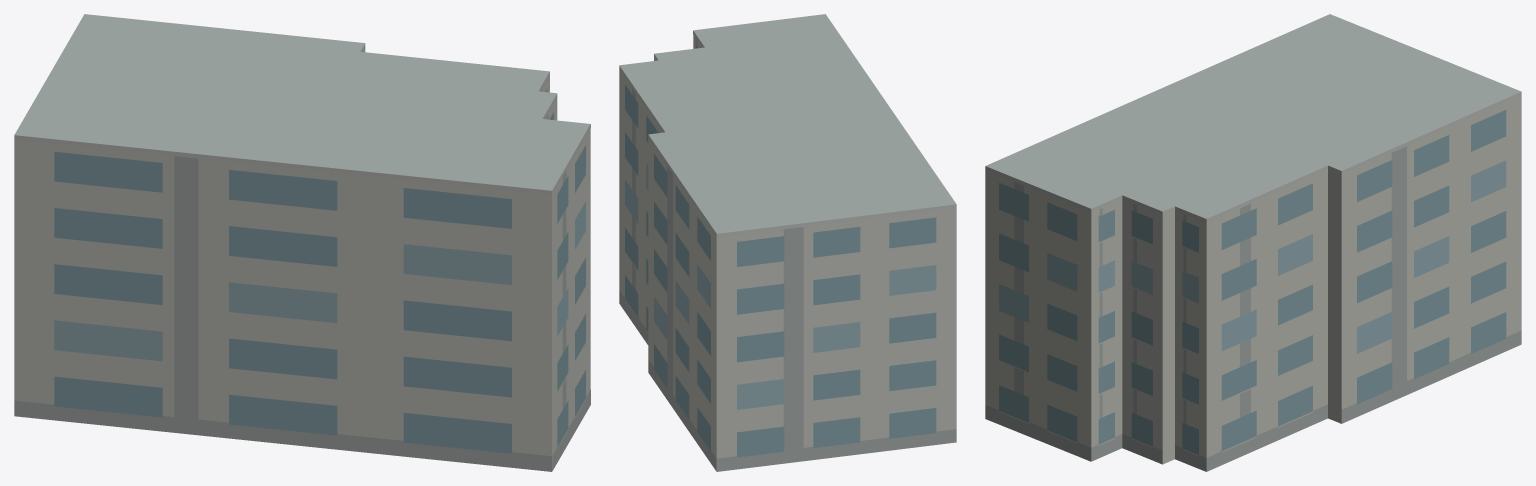
File: residential-81632d91-cecf-4811-9291-0ef5631561b8.glb
The picture shows the model from 3 angles, left to right: view 1: azimuth 30°, elevation 25°; view 2: azimuth 150°, elevation 25°; view 3: azimuth 270°, elevation 25°; orthographic projection. The views are drawn at different scales.
Visible parts, largest first — view 1: residential-81632d91-cecf-4811-9291-0ef5631561b8.tmp; view 2: residential-81632d91-cecf-4811-9291-0ef5631561b8.tmp; view 3: residential-81632d91-cecf-4811-9291-0ef5631561b8.tmp.
Boxes of the visible parts, bbox=[...] form: residential-81632d91-cecf-4811-9291-0ef5631561b8.tmp: bbox=[14, 14, 590, 471]; residential-81632d91-cecf-4811-9291-0ef5631561b8.tmp: bbox=[619, 14, 956, 471]; residential-81632d91-cecf-4811-9291-0ef5631561b8.tmp: bbox=[985, 14, 1521, 471].
Size of the model in its own units: 26.52 by 15.25 by 29.32.
